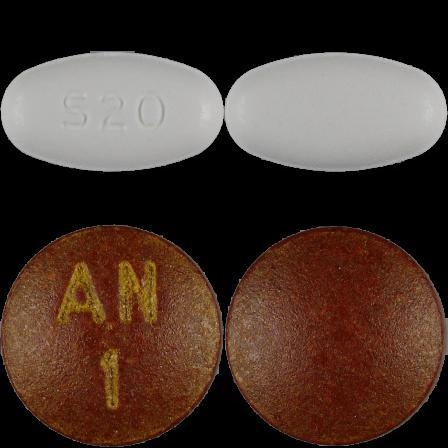0440-2055: (0, 0, 224, 224)
